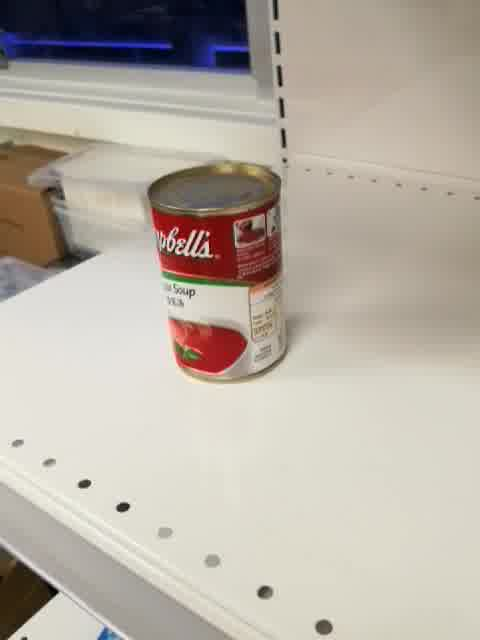tomatosoup: (144, 160, 290, 387)
